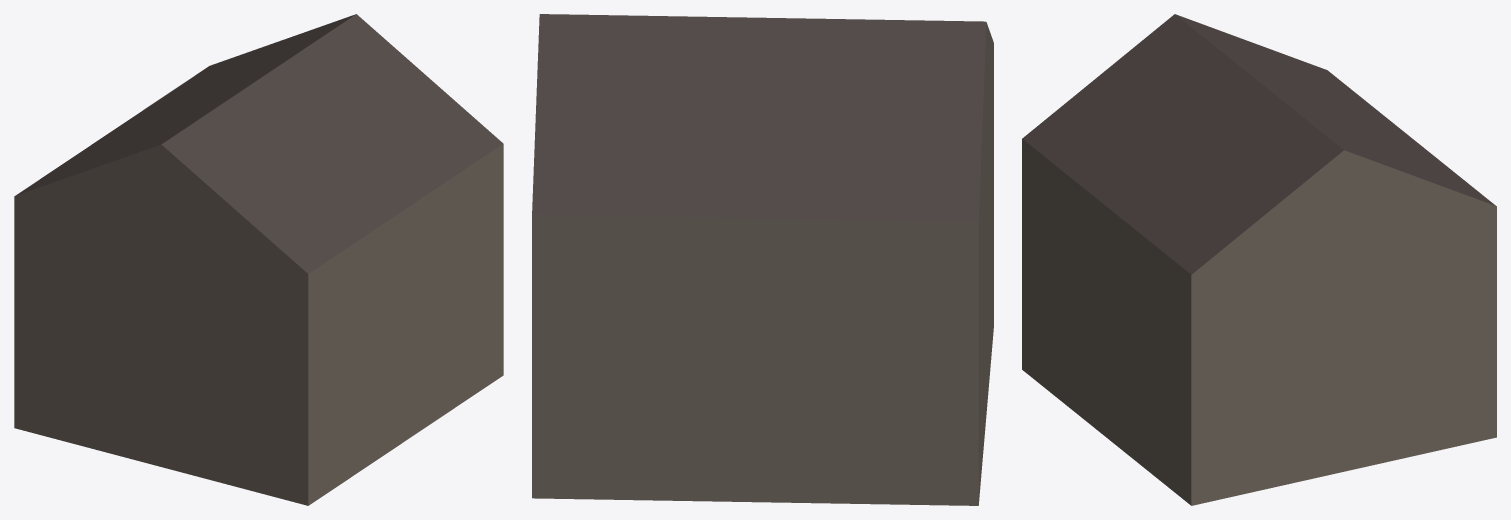
3 views of the same model, side by side, from view 1: azimuth 30°, elevation 25°; view 2: azimuth 150°, elevation 25°; view 3: azimuth 270°, elevation 25° (orthographic). The views are drawn at different scales.
Parts seen in each view (by area): view 1: HP-w859086193; view 2: HP-w859086193; view 3: HP-w859086193.
Boxes of the visible parts, x1,y1,x2,y2 form: HP-w859086193: [14, 14, 503, 505]; HP-w859086193: [532, 14, 993, 505]; HP-w859086193: [1022, 14, 1496, 505].
Size of the model in its own units: 17.09 by 12.52 by 16.75.
